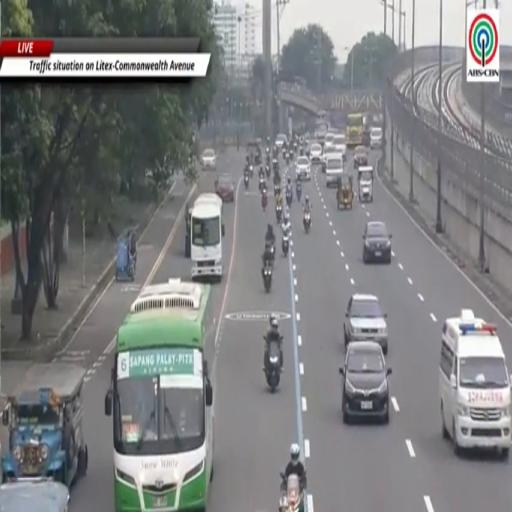bus: (105, 280, 215, 511), (191, 194, 224, 281), (346, 114, 363, 148)
car: (339, 342, 392, 423), (344, 294, 387, 354), (363, 221, 392, 264), (325, 154, 343, 187), (215, 174, 235, 202), (321, 146, 342, 172), (296, 156, 311, 180), (334, 134, 346, 161), (201, 149, 216, 170), (354, 146, 368, 168), (310, 142, 322, 165), (370, 127, 382, 149), (274, 134, 288, 150), (324, 133, 334, 148)
jeepney: (2, 362, 88, 487), (0, 479, 69, 511)
motorcycle: (264, 336, 282, 393), (279, 473, 304, 511), (262, 265, 272, 293), (266, 240, 275, 266), (303, 212, 311, 233), (282, 234, 289, 257), (276, 204, 282, 222), (262, 191, 267, 212), (286, 189, 292, 206), (296, 182, 301, 201), (259, 178, 266, 191), (248, 164, 254, 178), (274, 183, 280, 196), (255, 153, 261, 165), (273, 158, 278, 171), (245, 174, 249, 190), (265, 166, 270, 178), (285, 153, 290, 165), (289, 149, 294, 161), (259, 169, 264, 179), (282, 146, 286, 157), (266, 146, 270, 156)
tricycle: (116, 229, 136, 281), (337, 175, 353, 210)
